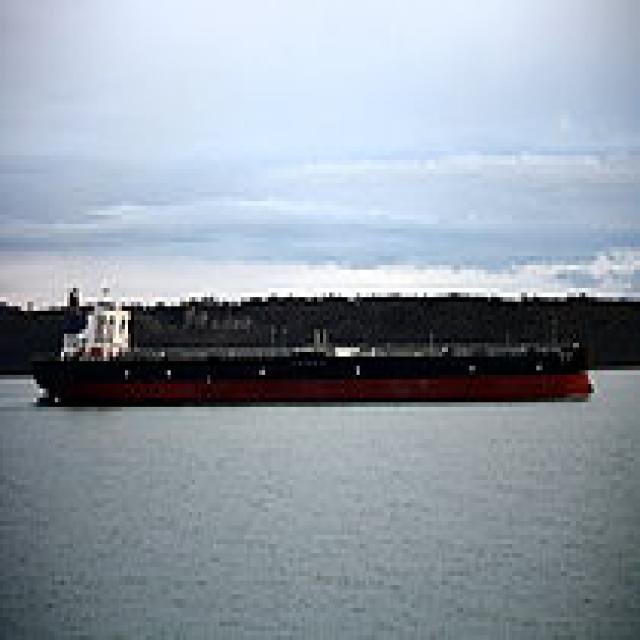Tanker: (21, 288, 592, 402)
